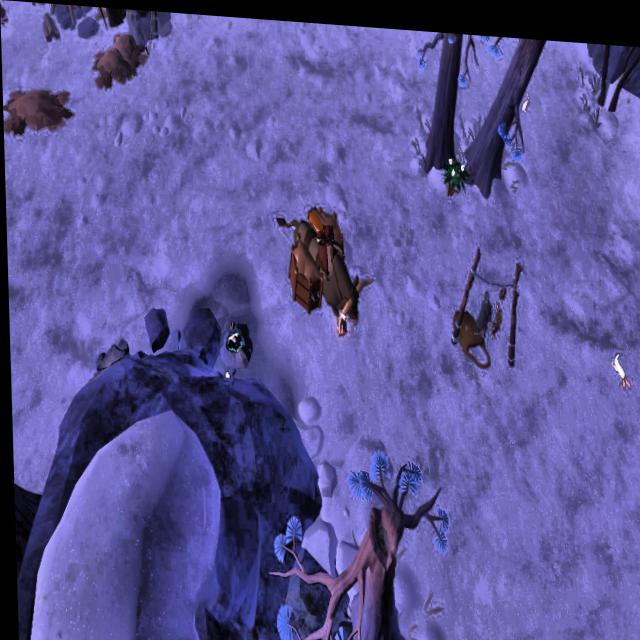fiber_t3: (440, 142, 467, 196)
